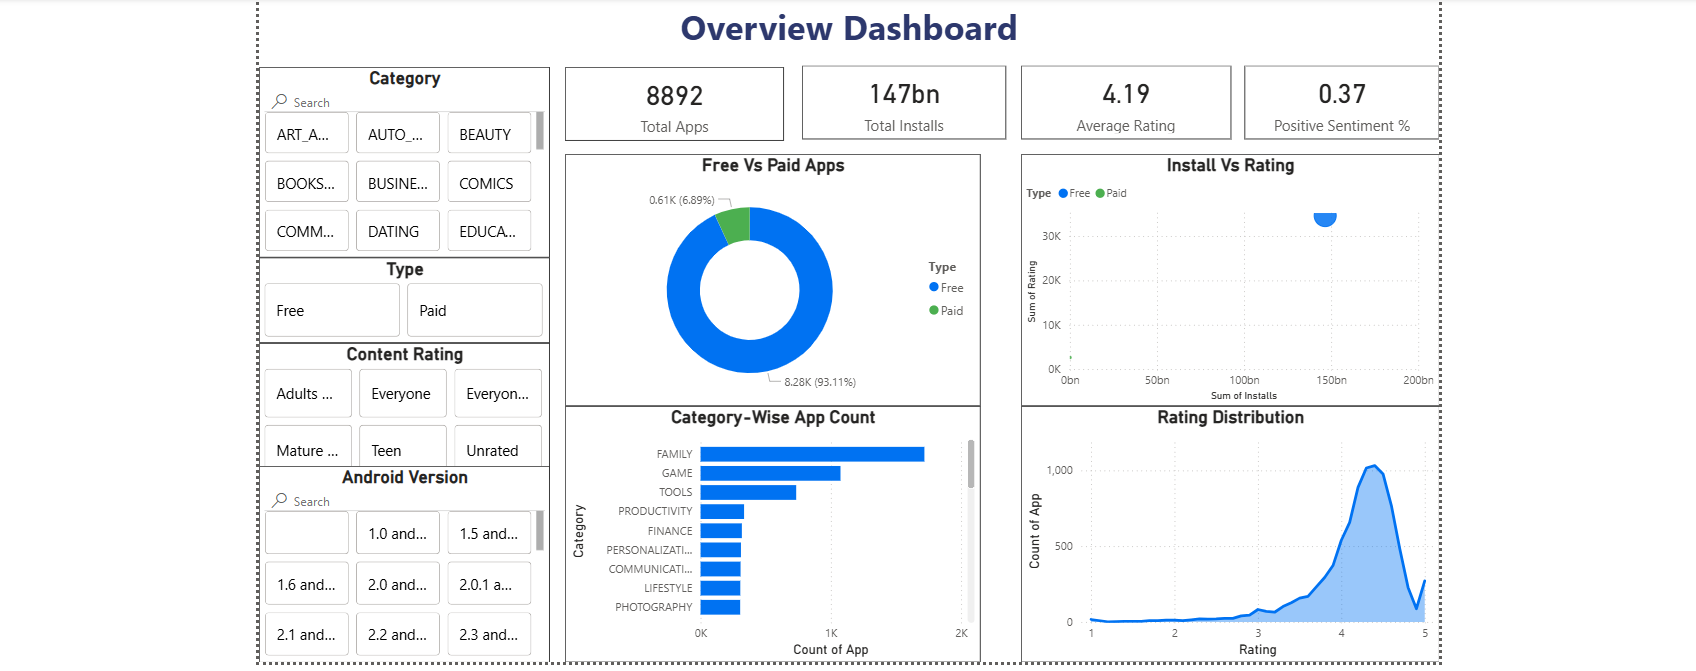

The dashboard page shown, as its layout file describes it:
{"tool":"powerbi","page":{"name":"Page 1","canvas":[1280,720],"ordinal":0},"visuals":[{"type":"barChart","title":"Category-Wise App Count","fields":{"Category":["Cleaned_GooglePlayStore.Category"],"Y":["CountNonNull(Cleaned_GooglePlayStore.App)"]},"box":[331.8,442.4,450.6,278.1],"z":0},{"type":"donutChart","title":"Free Vs Paid Apps","fields":{"Category":["Cleaned_GooglePlayStore.Type"],"Y":["CountNonNull(Cleaned_GooglePlayStore.App)"]},"box":[331.8,169.2,450.6,273.3],"z":1000},{"type":"areaChart","title":"Rating Distribution","fields":{"Category":["Cleaned_GooglePlayStore.Rating"],"Y":["CountNonNull(Cleaned_GooglePlayStore.App)"]},"box":[826.3,442.4,453.8,278.1],"z":2000},{"type":"scatterChart","title":"Install Vs Rating","fields":{"X":["Sum(Cleaned_GooglePlayStore.Installs)"],"Y":["Sum(Cleaned_GooglePlayStore.Rating)"],"Size":["Sum(Cleaned_GooglePlayStore.Reviews)"],"Series":["Cleaned_GooglePlayStore.Type"]},"box":[826.3,169.2,453.8,273.3],"z":3000},{"type":"advancedSlicerVisual","fields":{"Values":["Cleaned_GooglePlayStore.Content Rating"]},"box":[0,374.1,315.5,148],"z":4000},{"type":"advancedSlicerVisual","title":"Android Version","fields":{"Values":["Cleaned_GooglePlayStore.Android Ver"]},"box":[0,507.5,315.5,213.1],"z":5000},{"type":"advancedSlicerVisual","fields":{"Values":["Cleaned_GooglePlayStore.Type"]},"box":[0,281.4,315.5,92.7],"z":6000},{"type":"advancedSlicerVisual","fields":{"Values":["Cleaned_GooglePlayStore.Category"]},"box":[0,74.8,315.5,206.6],"z":7000},{"type":"card","title":"Total Apps","fields":{"Values":["Cleaned_GooglePlayStore.Total Apps"]},"box":[331.8,74.8,237.5,79.7],"z":8000},{"type":"card","fields":{"Values":["Cleaned_GooglePlayStore.Total Installs"]},"box":[588.8,73.2,221.2,79.7],"z":9000},{"type":"card","fields":{"Values":["Cleaned_GooglePlayStore.Average Rating"]},"box":[826.3,73.2,227.7,79.7],"z":10000},{"type":"card","fields":{"Values":["Cleaned_GooglePlayStore.Positive Sentiment %"]},"box":[1068.6,73.2,211.5,79.7],"z":11000},{"type":"textbox","box":[0,0,1280.1,73.2],"z":12000}]}

Visuals, with their boxes in screenshot pixels (x1, y1, x2, y2):
"Category-Wise App Count" barChart: detection(557, 402, 971, 658)
"Free Vs Paid Apps" donutChart: detection(557, 151, 971, 402)
"Rating Distribution" areaChart: detection(1012, 402, 1429, 658)
"Install Vs Rating" scatterChart: detection(1012, 151, 1429, 402)
advancedSlicerVisual - Cleaned_GooglePlayStore.Content Rating: detection(252, 340, 542, 476)
"Android Version" advancedSlicerVisual: detection(252, 462, 542, 658)
advancedSlicerVisual - Cleaned_GooglePlayStore.Type: detection(252, 254, 542, 340)
advancedSlicerVisual - Cleaned_GooglePlayStore.Category: detection(252, 64, 542, 254)
"Total Apps" card: detection(557, 64, 775, 138)
card - Cleaned_GooglePlayStore.Total Installs: detection(793, 63, 997, 136)
card - Cleaned_GooglePlayStore.Average Rating: detection(1012, 63, 1221, 136)
card - Cleaned_GooglePlayStore.Positive Sentiment %: detection(1234, 63, 1429, 136)
textbox: detection(252, 0, 1429, 63)
